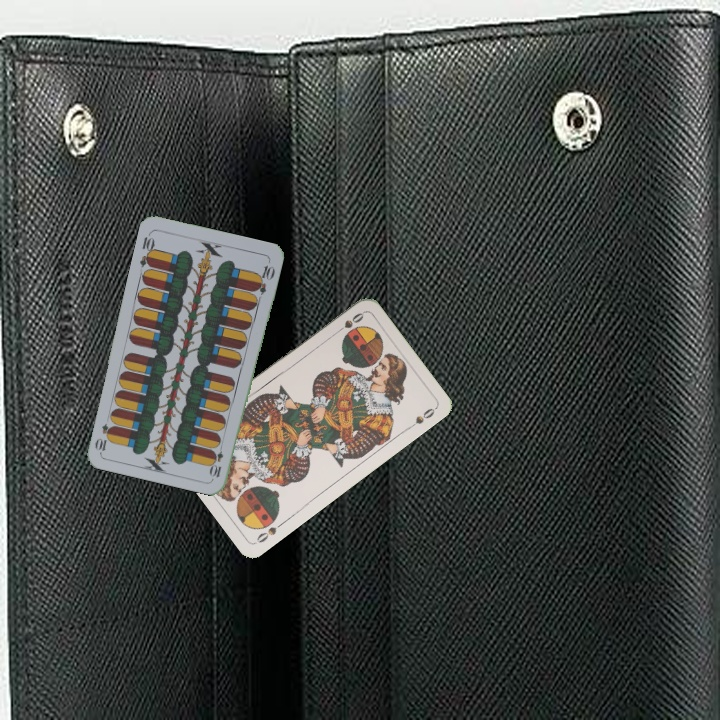E10: (136, 229, 157, 269), (208, 439, 226, 480)
SO: (331, 308, 366, 337), (252, 517, 287, 546)
